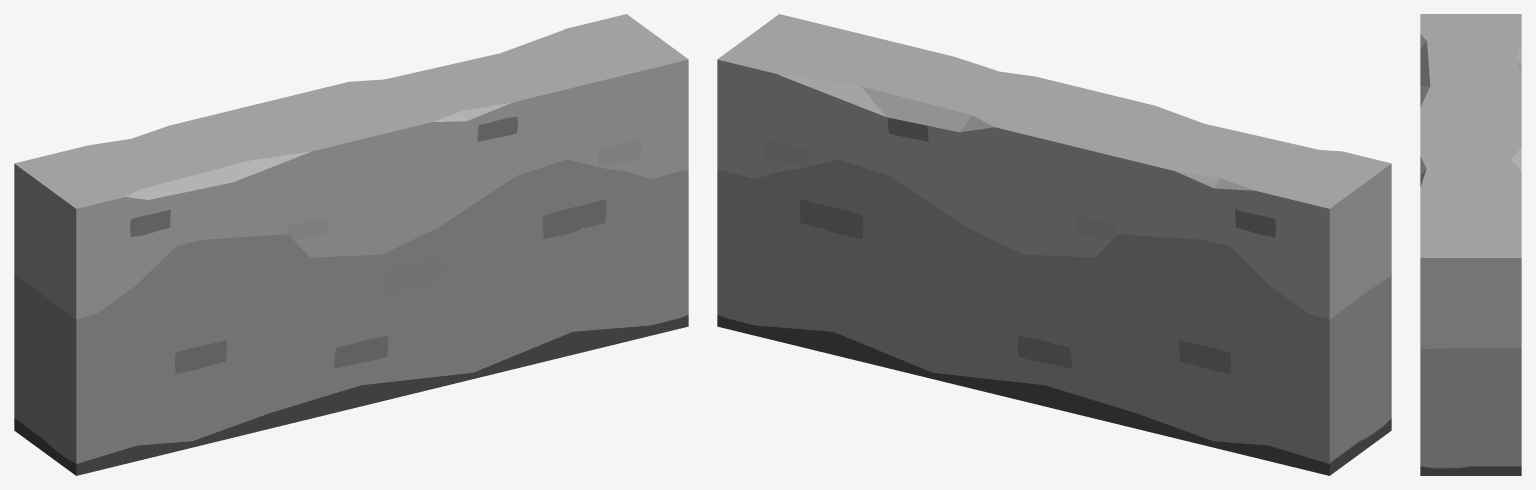
Rendered from Wh_Brick_Fence_Straight.fbx.
The picture shows the model from 3 angles, left to right: view 1: azimuth 30°, elevation 25°; view 2: azimuth 150°, elevation 25°; view 3: azimuth 270°, elevation 25°; orthographic projection. The views are drawn at different scales.
Parts seen in each view (by area): view 1: Cube.1075; view 2: Cube.1075; view 3: Cube.1075.
Part boxes in pixels (left/top/right/bottom): Cube.1075: left=14, top=14, right=688, bottom=475; Cube.1075: left=717, top=14, right=1391, bottom=475; Cube.1075: left=1420, top=14, right=1521, bottom=475.
Bounding box in the file's own units: 300 × 125 × 52.71.
